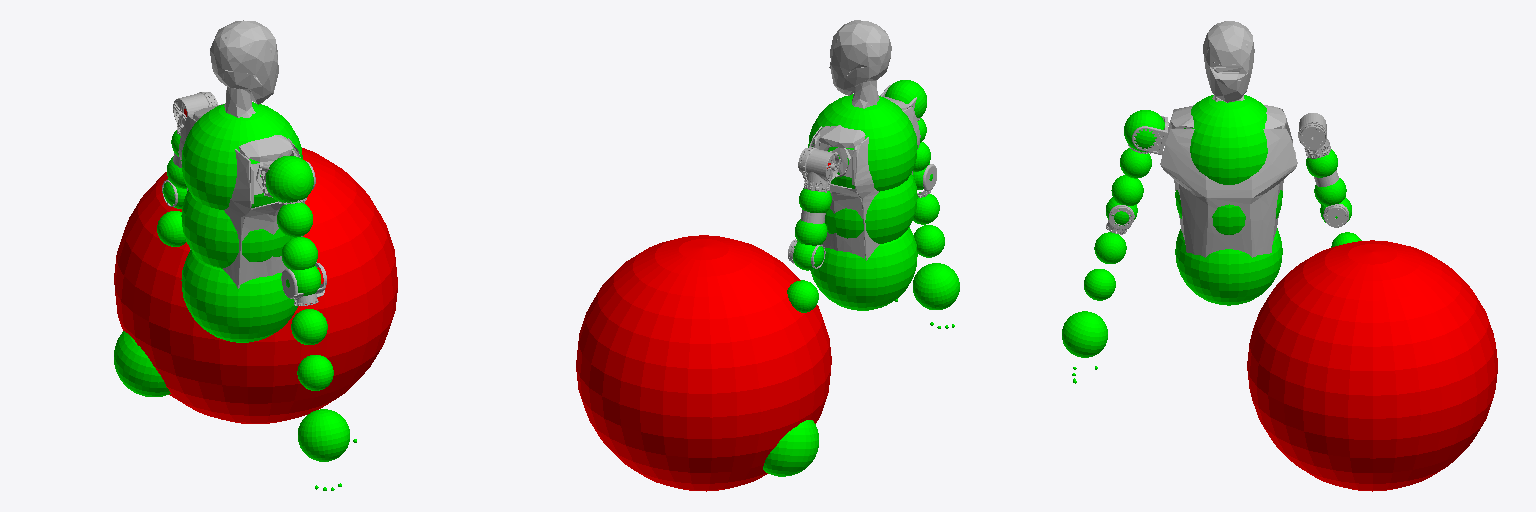
--- Render facts (derived) ---
The picture shows the robot from 3 angles, left to right: view 1: azimuth 30°, elevation 25°; view 2: azimuth 150°, elevation 25°; view 3: azimuth 270°, elevation 25°; orthographic projection.
Model dual_arm_description with 81 links and 80 joints (16 revolute, 1 prismatic, 63 fixed), rooted at base_footprint, posed every joint at zero.
Visible links, largest first — view 1: base_collision_1, waist_link, base_collision_2, base_collision_4, base_collision_3, right_collision_61, left_collision_61, right_collision_11, right_collision_41, right_collision_51, right_collision_21, right_collision_22 (+4 smaller); view 2: base_collision_1, waist_link, base_collision_2, base_collision_4, base_collision_3, left_collision_61, right_collision_61, left_link2, right_collision_11, right_collision_51, left_collision_41, left_collision_22 (+4 smaller); view 3: base_collision_1, waist_link, base_collision_4, base_collision_2, right_collision_61, right_collision_11, base_collision_3, left_link2, left_link3, right_collision_51, right_collision_41, right_collision_22 (+4 smaller).
Link boxes in pixels (x1,y1,x2,y2): base_collision_1: [114, 148, 397, 423]; waist_link: [178, 20, 304, 288]; base_collision_2: [181, 250, 297, 342]; base_collision_4: [181, 102, 302, 209]; base_collision_3: [181, 190, 292, 268]; right_collision_61: [298, 409, 349, 461]; left_collision_61: [114, 331, 170, 396]; right_collision_11: [266, 156, 313, 203]; right_collision_41: [291, 309, 327, 344]; right_collision_51: [297, 355, 333, 390]; right_collision_21: [277, 202, 312, 237]; right_collision_22: [282, 237, 317, 269]; base_collision_1: [576, 235, 831, 491]; waist_link: [802, 20, 920, 260]; base_collision_2: [810, 227, 917, 310]; base_collision_4: [808, 94, 917, 191]; base_collision_3: [825, 173, 917, 243]; left_collision_61: [763, 420, 818, 476]; right_collision_61: [913, 263, 959, 309]; left_link2: [798, 147, 839, 185]; right_collision_11: [885, 80, 926, 117]; right_collision_51: [914, 225, 944, 257]; left_collision_41: [787, 280, 818, 312]; left_collision_22: [795, 219, 827, 245]; base_collision_1: [1247, 240, 1497, 491]; waist_link: [1160, 21, 1297, 257]; base_collision_4: [1184, 95, 1267, 184]; base_collision_2: [1175, 228, 1282, 305]; right_collision_61: [1062, 311, 1107, 357]; right_collision_11: [1124, 110, 1164, 151]; base_collision_3: [1175, 190, 1282, 234]; left_link2: [1298, 113, 1329, 153]; left_link3: [1306, 146, 1348, 227]; right_collision_51: [1084, 269, 1115, 300]; right_collision_41: [1094, 232, 1126, 263]; right_collision_22: [1111, 175, 1143, 205].
Bounding box of the posed robot: 0.77 × 1.22 × 1.28 m (x, y, z).
Meshes: 44 distinct files referenced, 7 mesh visuals loaded (7 binary STL); not drawn: 37 (reference not matched to a file when rendering).

robot.urdf — dual_arm_description:
<?xml version="1.0" encoding="utf-8"?>
<!-- This URDF was automatically created by SolidWorks to URDF Exporter! Originally created by Stephen Brawner ([email redacted]) 
     Commit Version: 1.6.0-4-g7f85cfe  Build Version: 1.6.7995.38578
     For more information, please see http://wiki.ros.org/sw_urdf_exporter -->
<robot
  name="dual_arm_description">

  <mujoco>
        <compiler 
        meshdir="meshes/" 
        balanceinertia="true" 
        discardvisual="false" />
  </mujoco>
  <link name="base_footprint" />
  <link name="base_link" />
  <joint
    name="base_link_joint"
    type="fixed">
    <origin
      xyz="0 0 0.5"
      rpy="0 0 0" />
    <parent
      link="base_footprint" />
    <child
      link="base_link" />
    <axis
      xyz="0 0 0" />
  </joint>
  <link
    name="waist_link">
    <inertial>
      <origin
        xyz="-0.015645 0.000148 0.262500"
        rpy="0 0 0" />
      <mass
        value="15.674354" />
      <inertia
        ixx="0.365707"
        ixy="-0.000525"
        ixz="0.002362"
        iyy="0.354332"
        iyz="-0.000277"
        izz="0.089586" />
    </inertial>
    <visual>
      <origin rpy="0 0 0" xyz="0.0 0.0 0.0"/>
      <geometry>
        <mesh filename="waist_link2.STL" />
      </geometry>
      <material
        name="">
        <color
          rgba="0.752941176470588 0.752941176470588 0.752941176470588 1" />
      </material>
    </visual>
    <collision>
      <origin rpy="0 0 0" xyz="0.0 0.0 0.18"/>
      <geometry>
        <box size="0.2 0.25 0.36"/>
      </geometry>
    </collision>
  </link>
  <!-- <joint
    name="waist_joint"
    type="fixed">
    <origin
      xyz="0.0 0 0.0"
      rpy="0 0 0" />
    <parent
      link="base_link" />
    <child
      link="waist_link" />
    <axis
      xyz="0 0 1" />
    <limit effort="1000" lower="-3.14" upper="3.14" velocity="100"/>
  </joint> -->

  <link
    name="pelvis_link">
    <inertial>
      <origin
        xyz=" -0.047395 -0.000028 -0.046657"
        rpy="0 0 0" />
      <mass
        value="5.587228" />
      <inertia
        ixx="0.080339"
        ixy="-0.000008"
        ixz="0.006666"
        iyy="0.029082"
        iyz=" -0.000004"
        izz="0.091570" />
    </inertial>
    <visual>
      <origin rpy="0 0 0" xyz="0.0 0.0 0.0"/>
      <geometry>
        <mesh filename="pelvis.STL" />
      </geometry>
      <material
        name="">
        <color
          rgba="0.752941176470588 0.752941176470588 0.752941176470588 1" />
      </material>
    </visual>
    <collision>
      <origin
        xyz="0.0 0.0 -0.15"
        rpy="0 0 0" />
      <geometry>
        <box size="0.20 0.50 0.3"/>
      </geometry>
    </collision>
  </link>
  <joint
    name="pelvis_joint"
    type="fixed">
    <origin
      xyz="0.0 0 -0.00599999999999996"
      rpy="0 0 0" />
    <parent
      link="base_link" />
    <child
      link="pelvis_link" />
    <axis
      xyz="0 0 1" />
    <limit effort="1000" lower="-3.14" upper="3.14" velocity="100"/>
  </joint>
<joint name="waist_Z_joint" type="prismatic">
  <origin rpy="0 0 0" xyz="0 0 -0.0755"/>
  <parent link="pelvis_link"/>
  <child link="waist_Z_link"/>
  <axis xyz="0 0 1"/>
  <limit effort="90" lower="-0.15" upper="0" velocity="0.5"/>
  <dynamics damping="1" friction="1"/>
</joint>
<link name="waist_Z_link">
    <inertial>
      <origin rpy="0 0 0" xyz="-0.018779 -0.000457 0.246485"/>
      <mass value="1"/>
      <inertia ixx="0.242914" ixy="-0.000059" ixz="0.00398" iyy="0.228995" iyz="-0.000628" izz="0.075987"/>
    </inertial>
  <visual>
    <geometry>
      <cylinder radius="0.05" length="0.01"/>
    </geometry>
    <material name="blue">
      <color rgba="0 0 1 1"/>
    </material>
  </visual>
</link>

<!-- 腰部绕 X 轴旋转关节（Roll） -->
<joint name="waist_roll_joint" type="revolute">
  <origin rpy="0 0 0" xyz="0 0 0"/>
  <parent link="waist_Z_link"/>
  <child link="waist_roll_link"/>
  <axis xyz="1 0 0"/>
  <limit effort="90" lower="-0.25" upper="0.25" velocity="0.4"/>
  <dynamics damping="0.1" friction="0.1"/>
</joint>
<link name="waist_roll_link">
        <inertial>
      <origin rpy="0 0 0" xyz="-0.018779 -0.000457 0.246485"/>
      <mass value="0.0001"/>
      <inertia ixx="0.242914" ixy="-0.000059" ixz="0.00398" iyy="0.228995" iyz="-0.000628" izz="0.075987"/>
    </inertial>
  <visual>
    <geometry>
      <cylinder radius="0.05" length="0.01"/>
    </geometry>
    <material name="green">
      <color rgba="0 1 0 1"/>
    </material>
  </visual>
</link>

<!-- 腰部绕 Y 轴旋转关节（Pitch） -->
<joint name="waist_pitch_joint" type="fixed">

  <origin rpy="0 0 0" xyz="0 0 0"/>
  <parent link="waist_roll_link"/>
  <child link="waist_pitch_link"/>
  <axis xyz="0 1 0"/>
  <limit effort="90" lower="-0.25" upper="0.25" velocity="0.4"/>
  <dynamics damping="0.1" friction="0.1"/>
</joint>
<link name="waist_pitch_link">
        <inertial>
      <origin rpy="0 0 0" xyz="-0.018779 -0.000457 0.246485"/>
      <mass value="0.0001"/>
      <inertia ixx="0.242914" ixy="-0.000059" ixz="0.00398" iyy="0.228995" iyz="-0.000628" izz="0.075987"/>
    </inertial>
  <visual>
    <geometry>
      <cylinder radius="0.05" length="0.01"/>
    </geometry>
    <material name="red">
      <color rgba="1 0 0 1"/>
    </material>
  </visual>
</link>
  <!-- 腰部绕 Z 轴旋转关节（Yaw） -->
  <joint name="waist_yaw_joint" type="revolute">
    <origin rpy="0 0 0" xyz="0 0 0"/>
    <parent link="waist_pitch_link"/>
    <child link="waist_link"/>
    <axis xyz="0 0 1"/>
    <limit effort="90" lower="-1" upper="1" velocity="15"/>
    <dynamics damping="0.5" friction="0.5"/>
  </joint>
  <joint name="left_fixed_joint" type="fixed">
    <parent link= "waist_link" />
    <child link = "left_link0" />
    <origin xyz="0 0.15911 0.42582" rpy="0 1.3083 1.5707963" />
  </joint>
  <link
    name="left_link0">
    <inertial>
      <origin
        xyz="0.000007 -0.000002 -0.015501"
        rpy="0 0 0" />
      <mass
        value="1.036000" />
      <inertia
        ixx="0.000836" ixy="-0.000000" ixz="-0.000000" iyy="0.000835" iyz="-0.000000" izz="0.000658" />
    </inertial>
    <visual>
      <origin
        xyz="0 0 0"
        rpy="0 0 0" />
      <geometry>
        <mesh filename="l_link0.STL" />
      </geometry>
      <material
        name="">
        <color
          rgba="0.752941176470588 0.752941176470588 0.752941176470588 1" />
      </material>
    </visual>
    <collision>
      <!-- <origin
        xyz="0 0 0"
        rpy="0 0 0" />
      <geometry>
        <mesh filename="left_arm/collision/link0.STL" />
      </geometry> -->
      <origin xyz="0 0 -0.02" rpy="0 0 0"/>
      <geometry>
        <cylinder radius="0.04" length="0.08"/>
      </geometry>
    </collision>
  </link>
  <link
    name="left_link1">
    <inertial>
      <origin
        xyz="0.000000 0.000725 -0.029524"
        rpy="0 0 0" />
      <mass
        value="0.222000" />
      <inertia
        ixx="0.000545" ixy="-0.000000" ixz="-0.000000" iyy="0.000279" iyz="-0.000045" izz="0.000505" />
    </inertial>
    <visual>
      <origin
        xyz="0 0 0"
        rpy="0 0 0" />
      <geometry>
        <mesh filename="l_link1.STL" />
      </geometry>
      <material
        name="">
        <color
          rgba="0.752941176470588 0.752941176470588 0.752941176470588 1" />
      </material>
    </visual>
    <collision>
      <!-- <origin
        xyz="0 0 0"
        rpy="0 0 0" />
      <geometry>
        <mesh filename="left_arm/collision/link1.STL" />
      </geometry> -->
      <origin xyz="0 0 -0.05" rpy="0 0 0"/>
      <geometry>
        <box size="0.08 0.11 0.01"/>
      </geometry>
    </collision>
  </link>
  <joint
    name="left_joint1"
    type="revolute">
    <origin
      xyz="0 0 0.0767"
      rpy="0 0 0" />
    <parent
      link="left_link0" />
    <child
      link="left_link1" />
    <axis
      xyz="0 0 1" />
    <limit lower="-3.14159265358979" upper="0.785398163397448" effort="40" start_stop="82" velocity="3.14159265358979" />
    <!-- <property inertia="1.24" damping="0" stiffness="0" offset="0" motor_constant="5.31" ratio="100" protect_max_torque="0" equa_inertia="0" /> -->
  </joint>
  <link
    name="left_link2">
    <inertial>
      <origin
        xyz="0.000000 -0.000473 0.006864"
        rpy="0 0 0" />
      <mass
        value="1.226000" />
      <inertia
        ixx="0.001198" ixy="-0.000000" ixz="-0.000000" iyy="0.001180" iyz="-0.000003" izz="0.000952" />
    </inertial>
    <visual>
      <origin
        xyz="0 0 0"
        rpy="0 0 0" />
      <geometry>
        <mesh filename="l_link2.STL" />
      </geometry>
      <material
        name="">
        <color
          rgba="0.75294 0.75294 0.75294 1" />
      </material>
    </visual>
    <collision>
      <origin
        xyz="0 0 0"
        rpy="0 0 0" />
      <geometry>
        <cylinder radius="0.04" length="0.11"/>
      </geometry>
    </collision>
  </link>
  <joint
    name="left_joint2"
    type="revolute">
    <origin
      xyz="0 0 0.0"
      rpy="1.5707963267948966192313216916398 -1.5707963267948966192313216916398 0" />
    <parent
      link="left_link1" />
    <child
      link="left_link2" />
    <axis
      xyz="0 0 1" />
    <limit lower="-0.174" upper="1.74532925199433" effort="40" start_stop="82" velocity="3.14159265358979" />
    <!-- <property inertia="1.24" damping="0" stiffness="0" offset="0" motor_constant="5.31" ratio="100" protect_max_torque="0" equa_inertia="0" /> -->
  </joint>
  <link
    name="left_link3">
    <inertial>
      <origin
        xyz="0.000247 0.003673 -0.081504"
        rpy="0 0 0" />
      <mass
        value="1.824000" />
      <inertia
        ixx="0.014207" ixy="0.000002" ixz="-0.000016" iyy="0.013974" iyz="-0.000547" izz="0.001323" />
    </inertial>
    <visual>
      <origin
        xyz="0 0 0"
        rpy="0 0 0" />
      <geometry>
        <mesh filename="l_link3.STL" />
      </geometry>
      <material
        name="">
        <color
          rgba="0.752941176470588 0.752941176470588 0.752941176470588 1" />
      </material>
    </visual>
    <collision>
      <origin
        xyz="0 0 -0.11"
        rpy="0 0 0" />
      <geometry>
        <cylinder radius="0.03" length="0.22"/>
      </geometry>
    </collision>
  </link>
  <joint
    name="left_joint3"
    type="revolute">
    <origin
      xyz="0 -0.253 0"
      rpy="1.5707963267948966192313216916398 0 0" />
    <parent
      link="left_link2" />
    <child
      link="left_link3" />
    <axis
      xyz="0 0 1" />
    <limit lower="-2.26892802759263" upper="2.26892802759263" effort="22" start_stop="42" velocity="4.18879020478639" />
    <!-- <property inertia="0.2" damping="0" stiffness="0" offset="0" motor_constant="4.5" ratio="100" protect_max_torque="0" equa_inertia="0" /> -->
  </joint>
  <link
    name="left_link4">
    <inertial>
      <origin
        xyz="0.002765 -0.020714 0.006089"
        rpy="0 0 0" />
      <mass
        value="0.123000" />
      <inertia
        ixx="0.000241" ixy="0.000004" ixz="0.000002" iyy="0.000211" iyz="-0.000006" izz="0.000125" />
    </inertial>
    <visual>
      <origin
        xyz="0 0 0"
        rpy="0 0 0" />
      <geometry>
        <mesh filename="l_link4.STL" />
      </geometry>
      <material
        name="">
        <color
          rgba="0.75294 0.75294 0.75294 1" />
      </material>
    </visual>
    <collision>
      <origin
        xyz="0 0 0"
        rpy="0 0 0" />
      <geometry>
        <cylinder radius="0.04" length="0.1"/>
      </geometry>
    </collision>
  </link>
  <joint
    name="left_joint4"
    type="revolute">
    <origin
      xyz="0 0 0"
      rpy="-1.5707963267948966192313216916398 0 0" />
    <parent
      link="left_link3" />
    <child
      link="left_link4" />
    <axis
      xyz="0 0 1" />
    <limit lower="-2.26892802759263" upper="0" effort="22" start_stop="42" velocity="4.18879020478639" />
    <!-- <property inertia="0.2" damping="0" stiffness="0" offset="0" motor_constant="4.5" ratio="100" protect_max_torque="0" equa_inertia="0" /> -->
  </joint>
  <link
    name="left_link5">
    <inertial>
      <origin
        xyz="0.000563 0.005092 -0.108798"
        rpy="0 0 0" />
      <mass
        value="1.010000" />
      <inertia
        ixx="0.002286" ixy="0.000027" ixz="-0.000035" iyy="0.002080" iyz="-0.000228" izz="0.000629" />
    </inertial>
    <visual>
      <origin
        xyz="0 0 0"
        rpy="0 0 0" />
      <geometry>
        <mesh filename="l_link5.STL" />
      </geometry>
      <material
        name="">
        <color
          rgba="0.752941176470588 0.752941176470588 0.752941176470588 1" />
      </material>
    </visual>
    <collision>
      <origin
        xyz="0 0 0"
        rpy="0 0 0" />
      <geometry>
        <mesh filename="l_link5.STL" />
      </geometry>
    </collision>
    <collision>
      <origin
        xyz="0 0 -0.15 "
        rpy="0 0 0" />
      <geometry>
        <cylinder radius="0.03" length="0.08"/>
      </geometry>
    </collision>
    <collision>
      <origin
        xyz="0 0 -0.08 "
        rpy="1.5707963267 0 0" />
      <geometry>
        <cylinder radius="0.03" length="0.1"/>
      </geometry>
    </collision>
    <!-- <collision>
      <origin
        xyz="0 0.05 -0.05 "
        rpy="0 0 0" />
      <geometry>
        <box size="0.07 0.01 0.12"/>
      </geometry>
    </collision>
    <collision>
      <origin
        xyz="0 -0.05 -0.05 "
        rpy="0 0 0" />
      <geometry>
        <box size="0.07 0.01 0.12"/>
      </geometry>
    </collision> -->
  </link>
  <joint
    name="left_joint5"
    type="revolute">
    <origin
      xyz="0 -0.2355 0"
      rpy="1.5707963267948966192313216916398 0 0" />
    <parent
      link="left_link4" />
    <child
      link="left_link5" />
    <axis
      xyz="0 0 1" />
    <limit lower="-2.26892802759263" upper="2.26892802759263" effort="8" start_stop="15" velocity="3.14159265358979" />
    <!-- <property inertia="0.085" damping="0" stiffness="0" offset="0" motor_constant="4.63" ratio="100" protect_max_torque="0" equa_inertia="0" /> -->
  </joint>
  <link
    name="left_link6">
    <inertial>
      <origin
        xyz="0.000000 -0.005048 0.000947"
        rpy="0 0 0" />
      <mass
        value="0.487000" />
      <inertia
        ixx="0.000270" ixy="-0.000000" ixz="-0.000000" iyy="0.000208" iyz="-0.000012" izz="0.000250" />
    </inertial>
    <visual>
      <origin
        xyz="0 0 0"
        rpy="0 0 0" />
      <geometry>
        <mesh filename="l_link6.STL" />
      </geometry>
      <material
        name="">
        <color
          rgba="0.75294 0.75294 0.75294 1" />
      </material>
    </visual>
    <collision>
      <origin
        xyz="0 0 0"
        rpy="1.5707963267 0 0" />
      <geometry>
        <cylinder radius="0.032" length="0.09"/>
      </geometry>
    </collision>
  </link>
  <joint
    name="left_joint6"
    type="revolute">
    <origin
      xyz="0 0 0"
      rpy="-1.5707963267948966192313216916398 -1.5707963267948966192313216916398 0" />
    <parent
      link="left_link5" />
    <child
      link="left_link6" />
    <axis
      xyz="0 0 1" />
    <limit lower="-0.645771812" upper="0.645771812" effort="8" start_stop="15" velocity="3.14159265358979" />
    <!-- <property inertia="0.085" damping="0" stiffness="0" offset="0" motor_constant="4.63" ratio="100" protect_max_torque="0" equa_inertia="0" /> -->
  </joint>
  <link
    name="left_link7">
    <inertial>
      <origin
        xyz="-0.000016 -0.066640 -0.015498"
        rpy="0 0 0" />
      <mass
        value="0.228000" />
      <inertia
        ixx="0.000303" ixy="-0.000000" ixz="-0.000000" iyy="0.000168" iyz="0.000088" izz="0.000265" />
    </inertial>
    <visual>
      <origin
        xyz="0 0 0"
        rpy="0 0 0" />
      <geometry>
        <mesh filename="l_link7.STL" />
      </geometry>
      <material
        name="">
        <color
          rgba="0.75294 0.75294 0.75294 1" />
      </material>
    </visual>
    <collision>
      <origin
        xyz="0 -0.05 0.04"
        rpy="0 0 0" />
      <geometry>
        <box size="0.06 0.05 0.01" />
      </geometry>
    </collision>
    <collision>
      <origin
        xyz="0 -0.08 0.0"
        rpy="1.5707963267 0 0" />
      <geometry>
        <cylinder radius="0.03" length="0.055" />
      </geometry>
    </collision>
  </link>
  <joint
    name="left_joint7"
    type="revolute">
    <origin
      xyz="0 0 0"
      rpy="-1.5707963267948966192313216916398 1.5707963267948966192313216916398 0" />
    <parent
      link="left_link6" />
    <child
      link="left_link7" />
    <axis
      xyz="0 0 1" />
    <limit lower="-0.645771812" upper="0.645771812" effort="8" start_stop="15" velocity="3.14159265358979" />
    <!-- <property inertia="0.085" damping="0" stiffness="0" offset="0" motor_constant="4.63" ratio="100" protect_max_torque="0" equa_inertia="0" /> -->
  </joint>
  <link name="left_flange"/>
  <joint name="left_flange_joint" type="fixed">
    <origin rpy="1.5707963267948966192313216916398 0 0" xyz="0 -0.084 0"/>
    <parent link="left_link7"/>
    <child link="left_flange"/>
  </joint>
  <link name="left_tcp_link"/>
  <joint
    name="left_tcp"
    type="fixed">
    <!-- <origin xyz="0 -0.2315 0" rpy="1.5707963267948966192313216916398 0 0" /> -->
    <origin xyz="0 -0.084 0" rpy="1.5707963267948966192313216916398 0 0" />
    <parent
      link="left_link7" />
    <child
      link="left_tcp_link" />
  </joint>
  <!-- <joint
    name="left_tcp"
    type="fixed">
    <origin
      xyz="0 0 0.12"
      rpy="0 0 0" />
    <parent
      link="left_flange" />
    <child
      link="left_tcp_link" />
  </joint> -->

  <joint name="right_fixed_joint" type="fixed">
    <parent link= "waist_link" />
    <child link = "right_link0" />
    <origin xyz="0 -0.15911 0.42582" rpy="0 1.3083 -1.5707963" />
  </joint>

  <link
    name="right_link0">
    <inertial>
      <origin
        xyz="0.000007 0.000002 0.015501"
        rpy="0 0 0" />
      <mass
        value="1.036000" />
      <inertia
        ixx="0.000836" ixy="-0.000000" ixz="-0.000000" iyy="0.000835" iyz="-0.000000" izz="0.000658" />
    </inertial>
    <visual>
      <origin
        xyz="0 0 0"
        rpy="0 0 0" />
      <geometry>
        <mesh filename="r_link0.STL" />
      </geometry>
      <material
        name="">
        <color
          rgba="0.752941176470588 0.752941176470588 0.752941176470588 1" />
      </material>
    </visual>
    <collision>
      <!-- <origin
        xyz="0 0 0"
        rpy="0 0 0" />
      <geometry>
        <mesh filename="right_arm/collision/link0.STL" />
      </geometry> -->
      <origin xyz="0 0 -0.02" rpy="0 0 0"/>
      <geometry>
        <cylinder radius="0.04" length="0.08"/>
      </geometry>
    </collision>
  </link>
  <link
    name="right_link1">
    <inertial>
      <origin
        xyz="0.000000 -0.000725 -0.029524"
        rpy="0 0 0" />
      <mass
        value="0.222000" />
      <inertia
        ixx="0.000545" ixy="-0.000000" ixz="-0.000000" iyy="0.000279" iyz="0.000045" izz="0.000505" />
    </inertial>
    <visual>
      <origin
        xyz="0 0 0"
        rpy="0 0 0" />
      <geometry>
        <mesh filename="r_link1.STL" />
      </geometry>
      <material
        name="">
        <color
          rgba="0.752941176470588 0.752941176470588 0.752941176470588 1" />
      </material>
    </visual>
    <collision>
      <!-- <origin
        xyz="0 0 0"
        rpy="0 0 0" />
      <geometry>
        <mesh filename="right_arm/collision/link1.STL" />
      </geometry> -->
      <origin xyz="0 0 -0.05" rpy="0 0 0"/>
      <geometry>
        <box size="0.08 0.11 0.01"/>
      </geometry>
    </collision>
  </link>
  <joint
    name="right_joint1"
    type="revolute">
    <origin
      xyz="0 0 0.0767"
      rpy="0 0 0" />
    <parent
      link="right_link0" />
    <child
      link="right_link1" />
    <axis
      xyz="0 0 1" />
    <limit lower="-0.785398163397448" upper="3.14159265358979" effort="40" start_stop="82" velocity="3.14159265358979" />
    <!-- <property inertia="1.24" damping="0" stiffness="0" offset="0" motor_constant="5.31" ratio="100" protect_max_torque="0" equa_inertia="0" /> -->
  </joint>
  <link
    name="right_link2">
    <inertial>
      <origin
        xyz="0.000000 0.000473 0.006864"
        rpy="0 0 0" />
      <mass
        value="1.226000" />
      <inertia
        ixx="0.001198" ixy="-0.000000" ixz="-0.000000" iyy="0.001180" iyz="0.000003" izz="0.000952" />
    </inertial>
    <visual>
      <origin
        xyz="0 0 0"
        rpy="0 0 0" />
      <geometry>
        <mesh filename="r_link2.STL" />
      </geometry>
      <material
        name="">
        <color
          rgba="0.75294 0.75294 0.75294 1" />
      </material>
    </visual>
    <collision>
      <origin
        xyz="0 0 0"
        rpy="0 0 0" />
      <geometry>
        <cylinder radius="0.04" length="0.11"/>
      </geometry>
    </collision>
  </link>
  <joint
    name="right_joint2"
    type="revolute">
    <origin
      xyz="0 0 0.0"
      rpy="-1.5707963267948966192313216916398 -1.5707963267948966192313216916398 0" />
    <parent
      link="right_link1" />
    <child
      link="right_link2" />
    <axis
      xyz="0 0 1" />
    <limit lower="-1.74532925199433" upper="0.174" effort="40" start_stop="82" velocity="3.14159265358979" />
    <!-- <property inertia="1.24" damping="0" stiffness="0" offset="0" motor_constant="5.31" ratio="100" protect_max_torque="0" equa_inertia="0" /> -->
  </joint>
  <link
    name="right_link3">
    <inertial>
      <origin
        xyz="0.000247 -0.003673 -0.081504"
        rpy="0 0 0" />
      <mass
        value="1.824000" />
      <inertia
        ixx="0.014207" ixy="-0.000002" ixz="-0.000016" iyy="0.013974" iyz="0.000547" izz="0.001323" />
    </inertial>
    <visual>
      <origin
        xyz="0 0 0"
        rpy="0 0 0" />
      <geometry>
        <mesh filename="r_link3.STL" />
      </geometry>
      <material
        name="">
        <color
          rgba="0.752941176470588 0.752941176470588 0.752941176470588 1" />
      </material>
    </visual>
    <collision>
      <origin
        xyz="0 0 -0.11"
        rpy="0 0 0" />
      <geometry>
        <cylinder radius="0.03" length="0.22"/>
      </geometry>
    </collision>
  </link>
  <joint
    name="right_joint3"
    type="revolute">
    <origin
      xyz="0 0.253 0"
      rpy="-1.5707963267948966192313216916398 0 0" />
    <parent
      link="right_link2" />
    <child
      link="right_link3" />
    <axis
      xyz="0 0 1" />
    <limit lower="-2.26892802759263" upper="2.26892802759263" effort="22" start_stop="42" velocity="4.18879020478639" />
    <!-- <property inertia="0.2" damping="0" stiffness="0" offset="0" motor_constant="4.5" ratio="100" protect_max_torque="0" equa_inertia="0" /> -->
  </joint>
  <link
    name="right_link4">
    <inertial>
      <origin
        xyz="0.002765 0.020714 0.006089"
        rpy="0 0 0" />
      <mass
        value="0.123000" />
      <inertia
        ixx="0.000241" ixy="-0.000004" ixz="0.000002" iyy="0.000211" iyz="0.000006" izz="0.000125" />
    </inertial>
    <visual>
      <origin
        xyz="0 0 0"
        rpy="0 0 0" />
      <geometry>
        <mesh filename="r_link4.STL" />
      </geometry>
      <material
        name="">
        <color
          rgba="0.75294 0.75294 0.75294 1" />
      </material>
    </visual>
    <collision>
      <origin
        xyz="0 0 0"
        rpy="0 0 0" />
      <geometry>
        <cylinder radius="0.04" length="0.1"/>
      </geometry>
    </collision>
  </link>
  <joint
    name="right_joint4"
    type="revolute">
    <origin
      xyz="0 0 0"
      rpy="1.5707963267948966192313216916398 0 0" />
    <parent
      link="right_link3" />
    <child
      link="right_link4" />
    <axis
      xyz="0 0 1" />
    <limit lower="0" upper="2.26892802759263" effort="22" start_stop="42" velocity="4.18879020478639" />
    <!-- <property inertia="0.2" damping="0" stiffness="0" offset="0" motor_constant="4.5" ratio="100" protect_max_torque="0" equa_inertia="0" /> -->
  </joint>
  <link
    name="right_link5">
    <inertial>
      <origin
        xyz="0.000563 -0.005092 -0.108798"
        rpy="0 0 0" />
      <mass
        value="1.010000" />
      <inertia
        ixx="0.002286" ixy="0.000027" ixz="-0.000035" iyy="0.002080" iyz="0.000228" izz="0.000629" />
    </inertial>
    <visual>
      <origin
        xyz="0 0 0"
        rpy="0 0 0" />
      <geometry>
        <mesh filename="r_link5.STL" />
      </geometry>
      <material
        name="">
        <color
          rgba="0.752941176470588 0.752941176470588 0.752941176470588 1" />
      </material>
    </visual>
    <collision>
      <origin
        xyz="0 0 0"
        rpy="0 0 0" />
      <geometry>
        <mesh filename="r_link5.STL" />
      </geometry>
    </collision>
    <collision>
      <origin
        xyz="0 0 -0.15 "
        rpy="0 0 0" />
      <geometry>
        <cylinder radius="0.03" length="0.08"/>
      </geometry>
    </collision>
    <collision>
      <origin
        xyz="0 0 -0.08 "
        rpy="1.5707963267 0 0" />
      <geometry>
        <cylinder radius="0.03" length="0.1"/>
      </geometry>
    </collision>
    <!-- <collision>
      <origin
        xyz="0 0.05 -0.05 "
        rpy="0 0 0" />
      <geometry>
        <box size="0.07 0.01 0.12"/>
      </geometry>
    </collision>
    <collision>
      <origin
        xyz="0 -0.05 -0.05 "
        rpy="0 0 0" />
      <geometry>
        <box size="0.07 0.01 0.12"/>
      </geometry>
    </collision> -->
  </link>
  <joint
    name="right_joint5"
    type="revolute">
    <origin
      xyz="0 0.2355 0"
      rpy="-1.5707963267948966192313216916398 0 0" />
    <parent
      link="right_link4" />
    <child
      link="right_link5" />
    <axis
      xyz="0 0 1" />
    <limit lower="-2.26892802759263" upper="2.26892802759263" effort="8" start_stop="15" velocity="3.14159265358979" />
    <!-- <property inertia="0.085" damping="0" stiffness="0" offset="0" motor_constant="4.63" ratio="100" protect_max_torque="0" equa_inertia="0" /> -->
  </joint>
  <link
    name="right_link6">
    <inertial>
      <origin
        xyz="0.000000 0.005048 0.000947"
        rpy="0 0 0" />
      <mass
        value="0.487000" />
      <inertia
        ixx="0.000270" ixy="-0.000000" ixz="-0.000000" iyy="0.000208" iyz="0.000012" izz="0.000250" />
    </inertial>
    <visual>
      <origin
        xyz="0 0 0"
        rpy="0 0 0" />
      <geometry>
        <mesh filename="r_link6.STL" />
      </geometry>
      <material
        name="">
        <color
          rgba="0.75294 0.75294 0.75294 1" />
      </material>
    </visual>
    <collision>
      <origin
        xyz="0 0 0"
        rpy="1.5707963267 0 0" />
      <geometry>
        <cylinder radius="0.032" length="0.09"/>
      </geometry>
    </collision>
  </link>
  <joint
    name="right_joint6"
    type="revolute">
    <origin
      xyz="0 0 0"
      rpy="1.5707963267948966192313216916398 -1.5707963267948966192313216916398 0" />
    <parent
      link="right_link5" />
    <child
      link="right_link6" />
    <axis
      xyz="0 0 1" />
    <limit lower="-0.645771812" upper="0.645771812" effort="8" start_stop="15" velocity="3.14159265358979" />
    <!-- <property inertia="0.085" damping="0" stiffness="0" offset="0" motor_constant="4.63" ratio="100" protect_max_torque="0" equa_inertia="0" /> -->
  </joint>
  <link
    name="right_link7">
    <inertial>
      <origin
        xyz="-0.000016 -0.066640 -0.015498"
        rpy="0 0 0" />
      <mass
        value="0.228000" />
      <inertia
        ixx="0.000303" ixy="-0.000000" ixz="-0.000000" iyy="0.000168" iyz="0.000088" izz="0.000265" />
    </inertial>
    <visual>
      <origin
        xyz="0 0 0"
        rpy="0 0 0" />
      <geometry>
        <mesh filename="r_link7.STL" />
      </geometry>
      <material
        name="">
        <color
          rgba="0.75294 0.75294 0.75294 1" />
      </material>
    </visual>
    <collision>
      <origin
        xyz="0 -0.05 0.04"
        rpy="0 0 0" />
      <geometry>
        <box size="0.06 0.05 0.01" />
      </geometry>
    </collision>
    <collision>
      <origin
        xyz="0 -0.08 0.0"
        rpy="1.5707963267 0 0" />
      <geometry>
        <cylinder radius="0.03" length="0.055" />
      </geometry>
    </collision>
  </link>
  <joint
    name="right_joint7"
    type="revolute">
    <origin
      xyz="0 0 0"
      rpy="1.5707963267948966192313216916398 -1.5707963267948966192313216916398 0" />
    <parent
      link="right_link6" />
    <child
      link="right_link7" />
    <axis
      xyz="0 0 1" />
    <limit lower="-0.645771812" upper="0.645771812" effort="8" start_stop="15" velocity="3.14159265358979" />
    <!-- <property inertia="0.085" damping="0" stiffness="0" offset="0" motor_constant="4.63" ratio="100" protect_max_torque="0" equa_inertia="0" /> -->
  </joint>
  <link name="right_flange"/>
  <joint name="right_flange_joint" type="fixed">
    <origin rpy="1.5707963267948966192313216916398 0 0" xyz="0 -0.084 0"/>
    <parent link="right_link7"/>
    <child link="right_flange"/>
  </joint>
  <link name="right_tcp_link"/>
  <joint
    name="right_tcp"
    type="fixed">
    <!-- <origin xyz="0 -0.2315 0" rpy="1.5707963267948966192313216916398 0 0" /> -->
    <origin xyz="0 -0.084 0" rpy="1.5707963267948966192313216916398 0 0" />
    <parent
      link="right_link7" />
    <child
      link="right_tcp_link" />
  </joint>

  <!-- <link name="right_plate_link">
    <visual>
      <origin
        xyz="0 0 0"
        rpy="0 0 0" />
      <geometry>
        <cylinder radius="0.25" length="0.1"/>
      </geometry>
      <material
      name="">
      <color
        rgba="0.75294 0.75294 0.75294 1" />
    </material>
    </visual>
  </link>
  <joint
    name="right_plate"
    type="fixed">
    <origin
      xyz="-0.082  -0.294  0.013"
      rpy="3.037  -0.916 0.076" />
    <parent
      link="right_tcp_link" />
    <child
      link="right_plate_link" />
  </joint> -->



  <joint name="left_flange" type="fixed">
    <origin rpy="0 -1.5707963267948966192313216916398 0" xyz="0 -0.084 0"/>
    <parent link="left_link7"/>
    <child link="L_hand_base_link"/>
  </joint>
  <link name="L_hand_base_link">
      <inertial>
        <origin
          xyz="-0.002551 -0.066047 -0.0019357"
          rpy="0 0 0" />
        <mass
          value="0.14143" />
        <inertia
          ixx="0.0001234"
          ixy="2.1995E-06"
          ixz="-1.7694E-06"
          iyy="8.3835E-05"
          iyz="1.5968E-06"
          izz="7.7231E-05" />
      </inertial>
      <visual>
        <origin
          xyz="0 0 0"
          rpy="0 0 0" />
        <geometry>
          <mesh filename="L_hand_base_link.STL" />
        </geometry>
        <material name="">
          <color rgba="0.1 0.1 0.1 1" />
        </material>
      </visual>
      <!-- <collision>
        <origin
          xyz="0 0 0"
          rpy="0 0 0" />
        <geometry>
          <mesh filename="L_hand_base_link.STL" />
        </geometry>
      </collision> -->
    </link>

    <link name="L_thumb_proximal_base">
      <inertial>
        <origin
          xyz="0.0048817 0.00038782 -0.00722"
          rpy="0 0 0" />
        <mass
          value="0.0018869" />
        <inertia
          ixx="5.5158E-08"
          ixy="-1.1803E-08"
          ixz="-4.6743E-09"
          iyy="8.2164E-08"
          iyz="-1.3521E-09"
          izz="6.7434E-08" />
      </inertial>
      <visual>
        <origin
          xyz="0 0 0"
          rpy="0 0 0" />
        <geometry>
          <mesh filename="Link11_L.STL" />
        </geometry>
        <material name="">
          <color rgba="0.1 0.1 0.1 1" />
        </material>
      </visual>
      <!-- <collision>
        <origin
          xyz="0 0 0"
          rpy="0 0 0" />
        <geometry>
          <mesh filename="Link11_L.STL" />
        </geometry>
      </collision> -->
    </link>

    <joint
      name="L_thumb_proximal_yaw_joint"
      type="fixed">
      <origin
        xyz="-0.01696 -0.0691 0.02045"
        rpy="1.5708 -1.5708 0" />
      <parent
        link="L_hand_base_link" />
      <child
        link="L_thumb_proximal_base" />
      <axis
        xyz="0 0 1" />
      <limit
        lower="-0.1"
        upper="1.3"
        effort="10"
        velocity="5" />
    </joint>

    <link name="L_thumb_proximal">
      <inertial>
        <origin
          xyz="0.021936 -0.01279 -0.0080386"
          rpy="0 0 0" />
        <mass
          value="0.0066101" />
        <inertia
          ixx="1.5693E-06"
          ixy="7.8339E-07"
          ixz="8.5959E-10"
          iyy="1.7356E-06"
          iyz="1.0378E-09"
          izz="2.787E-06" />
      </inertial>
      <visual>
        <origin
          xyz="0 0 0"
          rpy="0 0 0" />
        <geometry>
          <mesh filename="Link12_L.STL" />
        </geometry>
        <material name="">
          <color rgba="0.1 0.1 0.1 1" />
        </material>
      </visual>
      <!-- <collision>
        <origin
          xyz="0 0 0"
          rpy="0 0 0" />
        <geometry>
          <mesh filename="Link12_L.STL" />
        </geometry>
      </collision> -->
    </link>

    <joint
      name="L_thumb_proximal_pitch_joint"
      type="fixed">
      <origin
        xyz="0.0099867 0.0098242 -0.0089"
        rpy="-1.5708 0 0.16939" />
      <parent
        link="L_thumb_proximal_base" />
      <child
        link="L_thumb_proximal" />
      <axis
        xyz="0 0 -1" />
      <limit
        lower="0.0"
        upper="0.5"
        effort="10"
        velocity="5" />
    </joint>

    <link name="L_thumb_intermediate">
      <inertial>
        <origin
          xyz="0.0095531 0.0016282 -0.0072002"
          rpy="0 0 0" />
        <mass
          value="0.0037844" />
        <inertia
          ixx="3.6981E-07"
          ixy="9.8603E-08"
          ixz="-2.8173E-12"
          iyy="3.2395E-07"
          iyz="-2.8028E-12"
          izz="4.6532E-07" />
      </inertial>
      <visual>
        <origin
          xyz="0 0 0"
          rpy="0 0 0" />
        <geometry>
          <mesh filename="Link13_L.STL" />
        </geometry>
        <material name="">
          <color rgba="0.1 0.1 0.1 1" />
        </material>
      </visual>
      <!-- <collision>
        <origin
          xyz="0 0 0"
          rpy="0 0 0" />
        <geometry>
          <mesh filename="Link13_L.STL" />
        </geometry>
      </collision> -->
    </link>

    <joint
      name="L_thumb_intermediate_joint"
      type="fixed">
      <origin
        xyz="0.04407 -0.034553 -0.0008"
        rpy="0 0 0" />
      <parent
        link="L_thumb_proximal" />
      <child
        link="L_thumb_intermediate" />
      <axis
        xyz="0 0 -1" />
      <limit
        lower="0"
        upper="0.8"
        effort="10"
        velocity="5" />
      <mimic 
        joint="L_thumb_proximal_pitch_joint"
        multiplier="1.6"
        offset="0" />
    </joint>

    <link name="L_thumb_distal">
      <inertial>
        <origin
          xyz="0.0092888 -0.004953 -0.0060033"
          rpy="0 0 0" />
        <mass
          value="0.003344" />
        <inertia
          ixx="1.3632E-07"
          ixy="5.6787E-08"
          ixz="-9.1939E-11"
          iyy="1.4052E-07"
          iyz="1.2145E-10"
          izz="2.0026E-07" />
      </inertial>
      <visual>
        <origin
          xyz="0 0 0"
          rpy="0 0 0" />
        <geometry>
          <mesh filename="Link14_L.STL" />
        </geometry>
        <material name="">
          <color rgba="0.1 0.1 0.1 1" />
        </material>
      </visual>
      <!-- <collision>
        <origin
          xyz="0 0 0"
          rpy="0 0 0" />
        <geometry>
          <mesh filename="Link14_L.STL" />
        </geometry>
      </collision> -->
    </link>

    <joint
      name="L_thumb_distal_joint"
      type="fixed">
      <origin
        xyz="0.020248 -0.010156 -0.0012"
        rpy="0 0 0" />
      <parent
        link="L_thumb_intermediate" />
      <child
        link="L_thumb_distal" />
      <axis
        xyz="0 0 -1" />
      <limit
        lower="0"
        upper="1.2"
        effort="10"
        velocity="5" />
      <mimic 
        joint="L_thumb_proximal_pitch_joint"
        multiplier="2.4"
        offset="0" />
    </joint>

    <link name="L_index_proximal">
      <inertial>
        <origin
          xyz="0.0012971 -0.011934 -0.0059998"
          rpy="0 0 0" />
        <mass
          value="0.0042405" />
        <inertia
          ixx="6.6215E-07"
          ixy="1.8442E-08"
          ixz="1.3746E-12"
          iyy="2.1167E-07"
          iyz="-1.4773E-11"
          izz="6.9402E-07" />
      </inertial>
      <visual>
        <origin
          xyz="0 0 0"
          rpy="0 0 0" />
        <geometry>
          <mesh filename="Link15_L.STL" />
        </geometry>
        <material name="">
          <color rgba="0.1 0.1 0.1 1" />
        </material>
      </visual>
      <!-- <collision>
        <origin
          xyz="0 0 0"
          rpy="0 0 0" />
        <geometry>
          <mesh filename="Link15_L.STL" />
        </geometry>
      </collision> -->
    </link>

    <link name="L_thumb_tip">
    <visual>
      <origin
        xyz="0 0 0"
        rpy="0 0 0" />
      <geometry>
        <sphere radius="0.005"/>
      </geometry>
      <material name="green">
        <color rgba="0 1 0 1" />
      </material>
    </visual>
  </link>
  <joint name="L_thumb_tip_joint" type="fixed">
    <parent link="L_thumb_distal"/>
    <child link="L_thumb_tip"/>
    <origin rpy="0 0 0" xyz="0.015 -0.013 -0.004"/>
  </joint>

    <joint
      name="L_index_proximal_joint"
      type="fixed">
      <origin
        xyz="0.00028533 -0.13653 0.032268"
        rpy="-0.034907 0 0" />
      <parent
        link="L_hand_base_link" />
      <child
        link="L_index_proximal" />
      <axis
        xyz="0 0 -1" />
      <limit
        lower="0"
        upper="1.7"
        effort="10"
        velocity="5" />
    </joint>

    <link name="L_index_intermediate">
      <inertial>
        <origin
          xyz="0.0021753 -0.019567 -0.005"
          rpy="0 0 0" />
        <mass
          value="0.0045682" />
        <inertia
          ixx="7.6284E-07"
          ixy="-8.063E-08"
          ixz="3.6797E-13"
          iyy="9.4308E-08"
          iyz="1.5743E-13"
          izz="7.8176E-07" />
      </inertial>
      <visual>
        <origin
          xyz="0 0 0"
          rpy="0 0 0" />
        <geometry>
          <mesh filename="Link16_L.STL" />
        </geometry>
        <material name="">
          <color rgba="0.1 0.1 0.1 1" />
        </material>
      </visual>
      <!-- <collision>
        <origin
          xyz="0 0 0"
          rpy="0 0 0" />
        <geometry>
          <mesh filename="Link16_L.STL" />
        </geometry>
      </collision> -->
    </link>

    <joint
      name="L_index_intermediate_joint"
      type="fixed">
      <origin
        xyz="-0.0024229 -0.032041 -0.001"
        rpy="0 0 0" />
      <parent
        link="L_index_proximal" />
      <child
        link="L_index_intermediate" />
      <axis
        xyz="0 0 -1" />
      <limit
        lower="0"
        upper="1.7"
        effort="10"
        velocity="5" />
      <mimic 
        joint="L_index_proximal_joint"
        multiplier="1"
        offset="0" />
    </joint>

    <link name="L_index_tip">
    <visual>
      <origin
        xyz="0 0 0"
        rpy="0 0 0" />
      <geometry>
        <sphere radius="0.005"/>
      </geometry>
      <material name="green">
        <color rgba="0 1 0 1" />
      </material>
    </visual>
  </link>
  <joint name="L_index_tip_joint" type="fixed">
    <parent link="L_index_intermediate"/>
    <child link="L_index_tip"/>
    <origin rpy="0 0 0" xyz="-0.005 -0.04 -0.004"/>
  </joint>

    <link name="L_middle_proximal">
      <inertial>
        <origin
          xyz="0.0012971 -0.011934 -0.0059999"
          rpy="0 0 0" />
        <mass
          value="0.0042405" />
        <inertia
          ixx="6.6215E-07"
          ixy="1.8442E-08"
          ixz="1.2299E-12"
          iyy="2.1167E-07"
          iyz="-1.4484E-11"
          izz="6.9402E-07" />
      </inertial>
      <visual>
        <origin
          xyz="0 0 0"
          rpy="0 0 0" />
        <geometry>
          <mesh filename="Link17_L.STL" />
        </geometry>
        <material name="">
          <color rgba="0.1 0.1 0.1 1" />
        </material>
      </visual>
      <!-- <collision>
        <origin
          xyz="0 0 0"
          rpy="0 0 0" />
        <geometry>
          <mesh filename="Link17_L.STL" />
        </geometry>
      </collision> -->
    </link>

    <joint
      name="L_middle_proximal_joint"
      type="fixed">
      <origin
        xyz="0.00028533 -0.1371 0.01295"
        rpy="0 0 0" />
      <parent
        link="L_hand_base_link" />
      <child
        link="L_middle_proximal" />
      <axis
        xyz="0 0 -1" />
      <limit
        lower="0"
        upper="1.7"
        effort="10"
        velocity="5" />
    </joint>

    <link name="L_middle_intermediate">
      <inertial>
        <origin
          xyz="0.001921 -0.020796 -0.0049999"
          rpy="0 0 0" />
        <mass
          value="0.0050397" />
        <inertia
          ixx="9.5823E-07"
          ixy="-1.1425E-07"
          ixz="-2.4186E-12"
          iyy="1.0646E-07"
          iyz="3.6974E-12"
          izz="9.8385E-07" />
      </inertial>
      <visual>
        <origin
          xyz="0 0 0"
          rpy="0 0 0" />
        <geometry>
          <mesh filename="Link18_L.STL" />
        </geometry>
        <material name="">
          <color rgba="0.1 0.1 0.1 1" />
        </material>
      </visual>
      <!-- <collision>
        <origin
          xyz="0 0 0"
          rpy="0 0 0" />
        <geometry>
          <mesh filename="Link18_L.STL" />
        </geometry>
      </collision> -->
    </link>
    
    <joint
      name="L_middle_intermediate_joint"
      type="fixed">
      <origin
        xyz="-0.0024229 -0.032041 -0.001"
        rpy="0 0 0" />
      <parent
        link="L_middle_proximal" />
      <child
        link="L_middle_intermediate" />
      <axis
        xyz="0 0 -1" />
      <limit
        lower="0"
        upper="1.7"
        effort="10"
        velocity="5" />
      <mimic 
        joint="L_middle_proximal_joint"
        multiplier="1"
        offset="0" />
    </joint>

    <link name="L_middle_tip">
    <visual>
      <origin
        xyz="0 0 0"
        rpy="0 0 0" />
      <geometry>
        <sphere radius="0.005"/>
      </geometry>
      <material name="green">
        <color rgba="0 1 0 1" />
      </material>
    </visual>
  </link>
  <joint name="L_middle_tip_joint" type="fixed">
    <parent link="L_middle_intermediate"/>
    <child link="L_middle_tip"/>
    <origin rpy="0 0 0" xyz="-0.005 -0.045 -0.004"/>
  </joint>

    <link name="L_ring_proximal">
      <inertial>
        <origin
          xyz="0.0012971 -0.011934 -0.0059999"
          rpy="0 0 0" />
        <mass
          value="0.0042405" />
        <inertia
          ixx="6.6215E-07"
          ixy="1.8442E-08"
          ixz="9.6052E-13"
          iyy="2.1167E-07"
          iyz="-1.4124E-11"
          izz="6.9402E-07" />
      </inertial>
      <visual>
        <origin
          xyz="0 0 0"
          rpy="0 0 0" />
        <geometry>
          <mesh filename="Link19_L.STL" />
        </geometry>
        <material name="">
          <color rgba="0.1 0.1 0.1 1" />
        </material>
      </visual>
      <!-- <collision>
        <origin
          xyz="0 0 0"
          rpy="0 0 0" />
        <geometry>
          <mesh filename="Link19_L.STL" />
        </geometry>
      </collision> -->
    </link>

    <joint
      name="L_ring_proximal_joint"
      type="fixed">
      <origin
        xyz="0.00028533 -0.13691 -0.0062872"
        rpy="0.05236 0 0" />
      <parent
        link="L_hand_base_link" />
      <child
        link="L_ring_proximal" />
      <axis
        xyz="0 0 -1" />
      <limit
        lower="0"
        upper="1.7"
        effort="10"
        velocity="5" />
    </joint>

    <link name="L_ring_intermediate">
      <inertial>
        <origin
          xyz="0.0021753 -0.019567 -0.005"
          rpy="0 0 0" />
        <mass
          value="0.0045682" />
        <inertia
          ixx="7.6285E-07"
          ixy="-8.0631E-08"
          ixz="3.3472E-14"
          iyy="9.4308E-08"
          iyz="-4.4773E-13"
          izz="7.8176E-07" />
      </inertial>
      <visual>
        <origin
          xyz="0 0 0"
          rpy="0 0 0" />
        <geometry>
          <mesh filename="Link20_L.STL" />
        </geometry>
        <material name="">
          <color rgba="0.1 0.1 0.1 1" />
        </material>
      </visual>
      <!-- <collision>
        <origin
          xyz="0 0 0"
          rpy="0 0 0" />
        <geometry>
          <mesh filename="Link20_L.STL" />
        </geometry>
      </collision> -->
    </link>

    <joint
      name="L_ring_intermediate_joint"
      type="fixed">
      <origin
        xyz="-0.0024229 -0.032041 -0.001"
        rpy="0 0 0" />
      <parent
        link="L_ring_proximal" />
      <child
        link="L_ring_intermediate" />
      <axis
        xyz="0 0 -1" />
      <limit
        lower="0"
        upper="1.7"
        effort="10"
        velocity="5" />
      <mimic 
        joint="L_ring_proximal_joint"
        multiplier="1"
        offset="0" />
    </joint>

    <link name="L_ring_tip">
    <visual>
      <origin
        xyz="0 0 0"
        rpy="0 0 0" />
      <geometry>
        <sphere radius="0.005"/>
      </geometry>
      <material name="green">
        <color rgba="0 1 0 1" />
      </material>
    </visual>
  </link>
  <joint name="L_ring_tip_joint" type="fixed">
    <parent link="L_ring_intermediate"/>
    <child link="L_ring_tip"/>
    <origin rpy="0 0 0" xyz="-0.002 -0.04 -0.004"/>
  </joint>

    <link name="L_pinky_proximal">
      <inertial>
        <origin
          xyz="0.0012971 -0.011934 -0.0059999"
          rpy="0 0 0" />
        <mass
          value="0.0042405" />
        <inertia
          ixx="6.6215E-07"
          ixy="1.8442E-08"
          ixz="1.0279E-12"
          iyy="2.1167E-07"
          iyz="-1.4277E-11"
          izz="6.9402E-07" />
      </inertial>
      <visual>
        <origin
          xyz="0 0 0"
          rpy="0 0 0" />
        <geometry>
          <mesh filename="Link21_L.STL" />
        </geometry>
        <material name="">
          <color rgba="0.1 0.1 0.1 1" />
        </material>
      </visual>
      <!-- <collision>
        <origin
          xyz="0 0 0"
          rpy="0 0 0" />
        <geometry>
          <mesh filename="Link21_L.STL" />
        </geometry>
      </collision> -->
    </link>

    <joint
      name="L_pinky_proximal_joint"
      type="fixed">
      <origin
        xyz="0.00028533 -0.13571 -0.025488"
        rpy="0.10472 0 0" />
      <parent
        link="L_hand_base_link" />
      <child
        link="L_pinky_proximal" />
      <axis
        xyz="0 0 -1" />
      <limit
        lower="0"
        upper="1.7"
        effort="10"
        velocity="5" />
    </joint>

    <link name="L_pinky_intermediate">
      <inertial>
        <origin
          xyz="0.0024788 -0.016208 -0.0050001"
          rpy="0 0 0" />
        <mass
          value="0.0036036" />
        <inertia
          ixx="4.3923E-07"
          ixy="-4.1355E-08"
          ixz="1.2263E-12"
          iyy="7.0315E-08"
          iyz="3.1311E-12"
          izz="4.4881E-07" />
      </inertial>
      <visual>
        <origin
          xyz="0 0 0"
          rpy="0 0 0" />
        <geometry>
          <mesh filename="Link22_L.STL" />
        </geometry>
        <material name="">
          <color rgba="0.1 0.1 0.1 1" />
        </material>
      </visual>
      <!-- <collision>
        <origin
          xyz="0 0 0"
          rpy="0 0 0" />
        <geometry>
          <mesh filename="Link22_L.STL" />
        </geometry>
      </collision> -->
    </link>

    <joint
      name="L_pinky_intermediate_joint"
      type="fixed">
      <origin
        xyz="-0.0024229 -0.032041 -0.001"
        rpy="0 0 0" />
      <parent
        link="L_pinky_proximal" />
      <child
        link="L_pinky_intermediate" />
      <axis
        xyz="0 0 -1" />
      <limit
        lower="0"
        upper="1.7"
        effort="10"
        velocity="5" />
      <mimic 
        joint="L_pinky_proximal_joint"
        multiplier="1"
        offset="0" />
    </joint>

    <link name="L_pinky_tip">
    <visual>
      <origin
        xyz="0 0 0"
        rpy="0 0 0" />
      <geometry>
        <sphere radius="0.005"/>
      </geometry>
      <material name="green">
        <color rgba="0 1 0 1" />
      </material>
    </visual>
  </link>
  <joint name="L_pinky_tip_joint" type="fixed">
    <parent link="L_pinky_intermediate"/>
    <child link="L_pinky_tip"/>
    <origin rpy="0 0 0" xyz="-0.002 -0.032 -0.004"/>
  </joint>

  <joint name="right_flange" type="fixed">
    <origin rpy="0 -1.5707963267948966192313216916398 0" xyz="0 -0.084 0"/>
    <parent link="right_link7"/>
    <child link="R_hand_base_link"/>
  </joint>
      <link name="R_hand_base_link">
    <inertial>
      <origin
        xyz="-0.0025264 -0.066047 0.0019598"
        rpy="0 0 0" />
      <mass
        value="0.14143" />
      <inertia
        ixx="0.00012281"
        ixy="2.1711E-06"
        ixz="1.7709E-06"
        iyy="8.3832E-05"
        iyz="-1.6551E-06"
        izz="7.6663E-05" />
    </inertial>
    <visual>
      <origin
        xyz="0 0 0"
        rpy="0 0 0" />
      <geometry>
        <mesh filename="R_hand_base_link.STL" />
      </geometry>
      <material name="">
        <color rgba="0.1 0.1 0.1 1" />
      </material>
    </visual>
    <!-- <collision>
      <origin
        xyz="0 0 0"
        rpy="0 0 0" />
      <geometry>
        <mesh filename="R_hand_base_link.STL" />
      </geometry>
    </collision> -->
  </link>

  <link name="R_thumb_proximal_base">
    <inertial>
      <origin
        xyz="-0.0048064 0.0009382 -0.00757"
        rpy="0 0 0" />
      <mass
        value="0.0018869" />
      <inertia
        ixx="5.816E-08"
        ixy="1.4539E-08"
        ixz="4.491E-09"
        iyy="7.9161E-08"
        iyz="-1.8727E-09"
        izz="6.7433E-08" />
    </inertial>
    <visual>
      <origin
        xyz="0 0 0"
        rpy="0 0 0" />
      <geometry>
        <mesh filename="Link11_R.STL" />
      </geometry>
      <material name="">
        <color rgba="0.1 0.1 0.1 1" />
      </material>
    </visual>
    <!-- <collision>
      <origin
        xyz="0 0 0"
        rpy="0 0 0" />
      <geometry>
        <mesh filename="Link11_R.STL" />
      </geometry>
    </collision> -->
  </link>

  <joint
    name="R_thumb_proximal_yaw_joint"
    type="fixed">
    <origin
      xyz="-0.01696 -0.0691 -0.02045"
      rpy="1.5708 -1.5708 0" />
    <parent
      link="R_hand_base_link" />
    <child
      link="R_thumb_proximal_base" />
    <axis
      xyz="0 0 -1" />
    <limit
      lower="-0.1"
      upper="1.3"
      effort="10"
      velocity="5" />
  </joint>

  <link name="R_thumb_proximal">
    <inertial>
      <origin
        xyz="0.021932 0.012785 -0.0080386"
        rpy="0 0 0" />
      <mass
        value="0.0066075" />
      <inertia
        ixx="1.5686E-06"
        ixy="-7.8296E-07"
        ixz="8.9143E-10"
        iyy="1.7353E-06"
        iyz="-1.0191E-09"
        izz="2.786E-06" />
    </inertial>
    <visual>
      <origin
        xyz="0 0 0"
        rpy="0 0 0" />
      <geometry>
        <mesh filename="Link12_R.STL" />
      </geometry>
      <material name="">
        <color rgba="0.1 0.1 0.1 1" />
      </material>
    </visual>
    <!-- <collision>
      <origin
        xyz="0 0 0"
        rpy="0 0 0" />
      <geometry>
        <mesh filename="Link12_R.STL" />
      </geometry>
    </collision> -->
  </link>

  <joint
    name="R_thumb_proximal_pitch_joint"
    type="fixed">
    <origin
      xyz="-0.0088099 0.010892 -0.00925"
      rpy="1.5708 0 2.8587" />
    <parent
      link="R_thumb_proximal_base" />
    <child
      link="R_thumb_proximal" />
    <axis
      xyz="0 0 1" />
    <limit
      lower="0.0"
      upper="0.5"
      effort="10"
      velocity="5" />
  </joint>

  <link name="R_thumb_intermediate">
    <inertial>
      <origin
        xyz="0.0095544 -0.0016282 -0.0071997"
        rpy="0 0 0" />
      <mass
        value="0.0037847" />
      <inertia
        ixx="3.6981E-07"
        ixy="-9.8581E-08"
        ixz="-4.7469E-12"
        iyy="3.2394E-07"
        iyz="1.0939E-12"
        izz="4.6531E-07" />
    </inertial>
    <visual>
      <origin
        xyz="0 0 0"
        rpy="0 0 0" />
      <geometry>
        <mesh filename="Link13_R.STL" />
      </geometry>
      <material name="">
        <color rgba="0.1 0.1 0.1 1" />
      </material>
    </visual>
    <!-- <collision>
      <origin
        xyz="0 0 0"
        rpy="0 0 0" />
      <geometry>
        <mesh filename="Link13_R.STL" />
      </geometry>
    </collision> -->
  </link>

  <joint
    name="R_thumb_intermediate_joint"
    type="fixed">
    <origin
      xyz="0.04407 0.034553 -0.0008"
      rpy="0 0 0" />
    <parent
      link="R_thumb_proximal" />
    <child
      link="R_thumb_intermediate" />
    <axis
      xyz="0 0 1" />
    <limit
      lower="0"
      upper="0.8"
      effort="10"
      velocity="5" />
    <mimic 
      joint="R_thumb_proximal_pitch_joint"
      multiplier="1.6"
      offset="0" />
  </joint>

  <link name="R_thumb_distal">
    <inertial>
      <origin
        xyz="0.0092888 0.0049529 -0.0060033"
        rpy="0 0 0" />
      <mass
        value="0.0033441" />
      <inertia
        ixx="1.3632E-07"
        ixy="-5.6788E-08"
        ixz="-9.2764E-11"
        iyy="1.4052E-07"
        iyz="-1.2283E-10"
        izz="2.0026E-07" />
    </inertial>
    <visual>
      <origin
        xyz="0 0 0"
        rpy="0 0 0" />
      <geometry>
        <mesh filename="Link14_R.STL" />
      </geometry>
      <material name="">
        <color rgba="0.1 0.1 0.1 1" />
      </material>
    </visual>
    <!-- <collision>
      <origin
        xyz="0 0 0"
        rpy="0 0 0" />
      <geometry>
        <mesh filename="Link14_R.STL" />
      </geometry>
    </collision> -->
  </link>

  <joint
    name="R_thumb_distal_joint"
    type="fixed">
    <origin
      xyz="0.020248 0.010156 -0.0012"
      rpy="0 0 0" />
    <parent
      link="R_thumb_intermediate" />
    <child
      link="R_thumb_distal" />
    <axis
      xyz="0 0 1" />
    <limit
      lower="0"
      upper="1.2"
      effort="10"
      velocity="5" />
    <mimic 
      joint="R_thumb_proximal_pitch_joint"
      multiplier="2.4"
      offset="0" />
  </joint>

  <link name="R_thumb_tip">
    <visual>
      <origin
        xyz="0 0 0"
        rpy="0 0 0" />
      <geometry>
        <sphere radius="0.005"/>
      </geometry>
      <material name="green">
        <color rgba="0 1 0 1" />
      </material>
    </visual>
  </link>
  <joint name="R_thumb_tip_joint" type="fixed">
    <parent link="R_thumb_distal"/>
    <child link="R_thumb_tip"/>
    <origin rpy="0 0 0" xyz="0.015 0.013 -0.004"/>
  </joint>

  <link name="R_index_proximal">
    <inertial>
      <origin
        xyz="0.0012259 0.011942 -0.0060001"
        rpy="0 0 0" />
      <mass
        value="0.0042403" />
      <inertia
        ixx="6.6232E-07"
        ixy="-1.5775E-08"
        ixz="1.8515E-12"
        iyy="2.1146E-07"
        iyz="-5.0828E-12"
        izz="6.9398E-07" />
    </inertial>
    <visual>
      <origin
        xyz="0 0 0"
        rpy="0 0 0" />
      <geometry>
        <mesh filename="Link15_R.STL" />
      </geometry>
      <material name="">
        <color rgba="0.1 0.1 0.1 1" />
      </material>
    </visual>
    <!-- <collision>
      <origin
        xyz="0 0 0"
        rpy="0 0 0" />
      <geometry>
        <mesh filename="Link15_R.STL" />
      </geometry>
    </collision> -->
  </link>

  <joint
    name="R_index_proximal_joint"
    type="fixed">
    <origin
      xyz="0.00028533 -0.13653 -0.032268"
      rpy="-3.1067 0 0" />
    <parent
      link="R_hand_base_link" />
    <child
      link="R_index_proximal" />
    <axis
      xyz="0 0 1" />
    <limit
      lower="0"
      upper="1.7"
      effort="10"
      velocity="5" />
  </joint>

  <link name="R_index_intermediate">
    <inertial>
      <origin
        xyz="0.0019697 0.019589 -0.005"
        rpy="0 0 0" />
      <mass
        value="0.0045683" />
      <inertia
        ixx="7.6111E-07"
        ixy="8.7637E-08"
        ixz="-3.7751E-13"
        iyy="9.6076E-08"
        iyz="9.9444E-13"
        izz="7.8179E-07" />
    </inertial>
    <visual>
      <origin
        xyz="0 0 0"
        rpy="0 0 0" />
      <geometry>
        <mesh filename="Link16_R.STL" />
      </geometry>
      <material name="">
        <color rgba="0.1 0.1 0.1 1" />
      </material>
    </visual>
    <!-- <collision>
      <origin
        xyz="0 0 0"
        rpy="0 0 0" />
      <geometry>
        <mesh filename="Link16_R.STL" />
      </geometry>
    </collision> -->
  </link>

  <joint
    name="R_index_intermediate_joint"
    type="fixed">
    <origin
      xyz="-0.0026138 0.032026 -0.001"
      rpy="0 0 0" />
    <parent
      link="R_index_proximal" />
    <child
      link="R_index_intermediate" />
    <axis
      xyz="0 0 1" />
    <limit
      lower="0"
      upper="1.7"
      effort="10"
      velocity="5" />
    <mimic 
      joint="R_index_proximal_joint"
      multiplier="1"
      offset="0" />
  </joint>

  <link name="R_index_tip">
    <visual>
      <origin
        xyz="0 0 0"
        rpy="0 0 0" />
      <geometry>
        <sphere radius="0.005"/>
      </geometry>
      <material name="green">
        <color rgba="0 1 0 1" />
      </material>
    </visual>
  </link>
  <joint name="R_index_tip_joint" type="fixed">
    <parent link="R_index_intermediate"/>
    <child link="R_index_tip"/>
    <origin rpy="0 0 0" xyz="-0.005 0.04 -0.004"/>
  </joint>

  <link name="R_middle_proximal">
    <inertial>
      <origin
        xyz="0.001297 0.011934 -0.0060001"
        rpy="0 0 0" />
      <mass
        value="0.0042403" />
      <inertia
        ixx="6.6211E-07"
        ixy="-1.8461E-08"
        ixz="1.8002E-12"
        iyy="2.1167E-07"
        iyz="-6.6808E-12"
        izz="6.9397E-07" />
    </inertial>
    <visual>
      <origin
        xyz="0 0 0"
        rpy="0 0 0" />
      <geometry>
        <mesh filename="Link17_R.STL" />
      </geometry>
      <material name="">
        <color rgba="0.1 0.1 0.1 1" />
      </material>
    </visual>
    <!-- <collision>
      <origin
        xyz="0 0 0"
        rpy="0 0 0" />
      <geometry>
        <mesh filename="Link17_R.STL" />
      </geometry>
    </collision> -->
  </link>

  <joint
    name="R_middle_proximal_joint"
    type="fixed">
    <origin
      xyz="0.00028533 -0.1371 -0.01295"
      rpy="-3.1416 0 0" />
    <parent
      link="R_hand_base_link" />
    <child
      link="R_middle_proximal" />
    <axis
      xyz="0 0 1" />
    <limit
      lower="0"
      upper="1.7"
      effort="10"
      velocity="5" />
  </joint>

  <link name="R_middle_intermediate">
    <inertial>
      <origin
        xyz="0.001921 0.020796 -0.005"
        rpy="0 0 0" />
      <mass
        value="0.0050396" />
      <inertia
        ixx="9.5822E-07"
        ixy="1.1425E-07"
        ixz="-2.4791E-12"
        iyy="1.0646E-07"
        iyz="5.9173E-12"
        izz="9.8384E-07" />
    </inertial>
    <visual>
      <origin
        xyz="0 0 0"
        rpy="0 0 0" />
      <geometry>
        <mesh filename="Link18_R.STL" />
      </geometry>
      <material name="">
        <color rgba="0.1 0.1 0.1 1" />
      </material>
    </visual>
    <!-- <collision>
      <origin
        xyz="0 0 0"
        rpy="0 0 0" />
      <geometry>
        <mesh filename="Link18_R.STL" />
      </geometry>
    </collision> -->
  </link>

  <joint
    name="R_middle_intermediate_joint"
    type="fixed">
    <origin
      xyz="-0.0024229 0.032041 -0.001"
      rpy="0 0 0" />
    <parent
      link="R_middle_proximal" />
    <child
      link="R_middle_intermediate" />
    <axis
      xyz="0 0 1" />
    <limit
      lower="0"
      upper="1.7"
      effort="10"
      velocity="5" />
    <mimic 
      joint="R_middle_proximal_joint"
      multiplier="1"
      offset="0" />
  </joint>

  <link name="R_middle_tip">
    <visual>
      <origin
        xyz="0 0 0"
        rpy="0 0 0" />
      <geometry>
        <sphere radius="0.005"/>
      </geometry>
      <material name="green">
        <color rgba="0 1 0 1" />
      </material>
    </visual>
  </link>
  <joint name="R_middle_tip_joint" type="fixed">
    <parent link="R_middle_intermediate"/>
    <child link="R_middle_tip"/>
    <origin rpy="0 0 0" xyz="-0.005 0.045 -0.004"/>
  </joint>

  <link name="R_ring_proximal">
    <inertial>
      <origin
        xyz="0.001297 0.011934 -0.0060002"
        rpy="0 0 0" />
      <mass
        value="0.0042403" />
      <inertia
        ixx="6.6211E-07"
        ixy="-1.8461E-08"
        ixz="1.5793E-12"
        iyy="2.1167E-07"
        iyz="-6.6868E-12"
        izz="6.9397E-07" />
    </inertial>
    <visual>
      <origin
        xyz="0 0 0"
        rpy="0 0 0" />
      <geometry>
        <mesh filename="Link19_R.STL" />
      </geometry>
      <material name="">
        <color rgba="0.1 0.1 0.1 1" />
      </material>
    </visual>
    <!-- <collision>
      <origin
        xyz="0 0 0"
        rpy="0 0 0" />
      <geometry>
        <mesh filename="Link19_R.STL" />
      </geometry>
    </collision> -->
  </link>

  <joint
    name="R_ring_proximal_joint"
    type="fixed">
    <origin
      xyz="0.00028533 -0.13691 0.0062872"
      rpy="3.0892 0 0" />
    <parent
      link="R_hand_base_link" />
    <child
      link="R_ring_proximal" />
    <axis
      xyz="0 0 1" />
    <limit
      lower="0"
      upper="1.7"
      effort="10"
      velocity="5" />
  </joint>

  <link name="R_ring_intermediate">
    <inertial>
      <origin
        xyz="0.0021753 0.019567 -0.005"
        rpy="0 0 0" />
      <mass
        value="0.0045683" />
      <inertia
        ixx="7.6286E-07"
        ixy="8.0635E-08"
        ixz="-6.1562E-13"
        iyy="9.431E-08"
        iyz="5.8619E-13"
        izz="7.8177E-07" />
    </inertial>
    <visual>
      <origin
        xyz="0 0 0"
        rpy="0 0 0" />
      <geometry>
        <mesh filename="Link20_R.STL" />
      </geometry>
      <material name="">
        <color rgba="0.1 0.1 0.1 1" />
      </material>
    </visual>
    <!-- <collision>
      <origin
        xyz="0 0 0"
        rpy="0 0 0" />
      <geometry>
        <mesh filename="Link20_R.STL" />
      </geometry>
    </collision> -->
  </link>

  <joint
    name="R_ring_intermediate_joint"
    type="fixed">
    <origin
      xyz="-0.0024229 0.032041 -0.001"
      rpy="0 0 0" />
    <parent
      link="R_ring_proximal" />
    <child
      link="R_ring_intermediate" />
    <axis
      xyz="0 0 1" />
    <limit
      lower="0"
      upper="1.7"
      effort="10"
      velocity="5" />
    <mimic 
      joint="R_ring_proximal_joint"
      multiplier="1"
      offset="0" />
  </joint>

  <link name="R_ring_tip">
    <visual>
      <origin
        xyz="0 0 0"
        rpy="0 0 0" />
      <geometry>
        <sphere radius="0.005"/>
      </geometry>
      <material name="green">
        <color rgba="0 1 0 1" />
      </material>
    </visual>
  </link>
  <joint name="R_ring_tip_joint" type="fixed">
    <parent link="R_ring_intermediate"/>
    <child link="R_ring_tip"/>
    <origin rpy="0 0 0" xyz="-0.002 0.04 -0.004"/>
  </joint>

  <link name="R_pinky_proximal">
    <inertial>
      <origin
        xyz="0.001297 0.011934 -0.0060001"
        rpy="0 0 0" />
      <mass
        value="0.0042403" />
      <inertia
        ixx="6.6211E-07"
        ixy="-1.8461E-08"
        ixz="1.6907E-12"
        iyy="2.1167E-07"
        iyz="-6.9334E-12"
        izz="6.9397E-07" />
    </inertial>
    <visual>
      <origin
        xyz="0 0 0"
        rpy="0 0 0" />
      <geometry>
        <mesh filename="Link21_R.STL" />
      </geometry>
      <material name="">
        <color rgba="0.1 0.1 0.1 1" />
      </material>
    </visual>
    <!-- <collision>
      <origin
        xyz="0 0 0"
        rpy="0 0 0" />
      <geometry>
        <mesh filename="Link21_R.STL" />
      </geometry>
    </collision> -->
  </link>

  <joint
    name="R_pinky_proximal_joint"
    type="fixed">
    <origin
      xyz="0.00028533 -0.13571 0.025488"
      rpy="3.0369 0 0" />
    <parent
      link="R_hand_base_link" />
    <child
      link="R_pinky_proximal" />
    <axis
      xyz="0 0 1" />
    <limit
      lower="0"
      upper="1.7"
      effort="10"
      velocity="5" />
  </joint>

  <link name="R_pinky_intermediate">
    <inertial>
      <origin
        xyz="0.0024748 0.016203 -0.0050031"
        rpy="0 0 0" />
      <mass
        value="0.0035996" />
      <inertia
        ixx="4.3913E-07"
        ixy="4.1418E-08"
        ixz="3.7168E-11"
        iyy="7.0247E-08"
        iyz="5.8613E-11"
        izz="4.4867E-07" />
    </inertial>
    <visual>
      <origin
        xyz="0 0 0"
        rpy="0 0 0" />
      <geometry>
        <mesh filename="Link22_R.STL" />
      </geometry>
      <material name="">
        <color rgba="0.1 0.1 0.1 1" />
      </material>
    </visual>
    <!-- <collision>
      <origin
        xyz="0 0 0"
        rpy="0 0 0" />
      <geometry>
        <mesh filename="Link22_R.STL" />
      </geometry>
    </collision> -->
  </link>

  <joint
    name="R_pinky_intermediate_joint"
    type="fixed">
    <origin
      xyz="-0.0024229 0.032041 -0.001"
      rpy="0 0 0" />
    <parent
      link="R_pinky_proximal" />
    <child
      link="R_pinky_intermediate" />
    <axis
      xyz="0 0 1" />
    <limit
      lower="0"
      upper="1.7"
      effort="10"
      velocity="5" />
    <mimic 
      joint="R_pinky_proximal_joint"
      multiplier="1"
      offset="0" />
  </joint>

  <link name="R_pinky_tip">
    <visual>
      <origin
        xyz="0 0 0"
        rpy="0 0 0" />
      <geometry>
        <sphere radius="0.005"/>
      </geometry>
      <material name="green">
        <color rgba="0 1 0 1" />
      </material>
    </visual>
  </link>
  <joint name="R_pinky_tip_joint" type="fixed">
    <parent link="R_pinky_intermediate"/>
    <child link="R_pinky_tip"/>
    <origin rpy="0 0 0" xyz="-0.002 0.032 -0.004"/>
  </joint>






    <!--base-->
  <link name="base_collision_1">
    <visual>
      <origin xyz="0 0 0" rpy="0 0 0"/>
      <geometry>
        <sphere radius="0.35"/>
      </geometry>
      <material name="red">
        <color rgba="1 0 0 0.2"/>
      </material>
    </visual>
    <inertial>
      <origin xyz="0 0 0" rpy="0 0 0"/>
      <mass value="0.001"/>
      <inertia ixx="0.0001" iyy="0.0001" izz="0.0001" ixy="0" ixz="0" iyz="0"/>
    </inertial>
  </link>
  <link name="base_collision_2">
    <visual>
      <origin xyz="0 0 0" rpy="0 0 0"/>
      <geometry>
        <sphere radius="0.15"/>
      </geometry>
      <material name="green">
        <color rgba="0 1 0 0.2"/>
      </material>
    </visual>
    <inertial>
      <origin xyz="0 0 0" rpy="0 0 0"/>
      <mass value="0.001"/>
      <inertia ixx="0.0001" iyy="0.0001" izz="0.0001" ixy="0" ixz="0" iyz="0"/>
    </inertial>
  </link>
  <link name="base_collision_3">
    <visual>
      <origin xyz="0 0 0" rpy="0 0 0"/>
      <geometry>
        <sphere radius="0.15"/>
      </geometry>
      <material name="green">
        <color rgba="0 1 0 0.2"/>
      </material>
    </visual>
    <inertial>
      <origin xyz="0 0 0" rpy="0 0 0"/>
      <mass value="0.001"/>
      <inertia ixx="0.0001" iyy="0.0001" izz="0.0001" ixy="0" ixz="0" iyz="0"/>
    </inertial>
  </link>
  <link name="base_collision_4">
    <visual>
      <origin xyz="0 0 0" rpy="0 0 0"/>
      <geometry>
        <sphere radius="0.15"/>
      </geometry>
      <material name="green">
        <color rgba="0 1 0 0.2"/>
      </material>
    </visual>
    <inertial>
      <origin xyz="0 0 0" rpy="0 0 0"/>
      <mass value="0.001"/>
      <inertia ixx="0.0001" iyy="0.0001" izz="0.0001" ixy="0" ixz="0" iyz="0"/>
    </inertial>
  </link>
  <joint name="base_collision_joint_1" type="fixed">
    <parent link="waist_Z_link"/>
    <child link="base_collision_1"/>
    <origin xyz="0.27 0.40 -0.15" rpy="0 0 0"/>
  </joint>
  <joint name="base_collision_joint_2" type="fixed">
    <parent link="waist_Z_link"/>
    <child link="base_collision_2"/>
    <origin xyz="0 0 0.075" rpy="0 0 0"/>
  </joint>
  <joint name="base_collision_joint_3" type="fixed">
    <parent link="waist_Z_link"/>
    <child link="base_collision_3"/>
    <origin xyz="0 0 0.25" rpy="0 0 0"/>
  </joint>
  <joint name="base_collision_joint_4" type="fixed">
    <parent link="waist_Z_link"/>
    <child link="base_collision_4"/>
    <origin xyz="0 0 0.4" rpy="0 0 0"/>
  </joint>
  <!--left-->

  <link name="left_collision_11">
    <visual>
      <origin xyz="0 0 0" rpy="0 0 0"/>
      <geometry>
        <sphere radius="0.03"/>
      </geometry>
      <material name="green">
        <color rgba="1 0 0 0.2"/>
      </material>
    </visual>
    <inertial>
      <origin xyz="0 0 0" rpy="0 0 0"/>
      <mass value="0.001"/>
      <inertia ixx="0.0001" iyy="0.0001" izz="0.0001" ixy="0" ixz="0" iyz="0"/>
    </inertial>
  </link>

  <link name="left_collision_21">
    <visual>
      <origin xyz="0 0 0" rpy="0 0 0"/>
      <geometry>
        <sphere radius="0.045"/>
      </geometry>
      <material name="green">
        <color rgba="0 1 0 0.2"/>
      </material>
    </visual>
    <inertial>
      <origin xyz="0 0 0" rpy="0 0 0"/>
      <mass value="0.001"/>
      <inertia ixx="0.0001" iyy="0.0001" izz="0.0001" ixy="0" ixz="0" iyz="0"/>
    </inertial>
  </link>
  <link name="left_collision_22">
    <visual>
      <origin xyz="0 0 0" rpy="0 0 0"/>
      <geometry>
        <sphere radius="0.045"/>
      </geometry>
      <material name="green">
        <color rgba="0 1 0 0.2"/>
      </material>
    </visual>
    <inertial>
      <origin xyz="0 0 0" rpy="0 0 0"/>
      <mass value="0.001"/>
      <inertia ixx="0.0001" iyy="0.0001" izz="0.0001" ixy="0" ixz="0" iyz="0"/>
    </inertial>
  </link>

  <link name="left_collision_31">
    <visual>
      <origin xyz="0 0 0" rpy="0 0 0"/>
      <geometry>
        <sphere radius="0.045"/>
      </geometry>
      <material name="green">
        <color rgba="0 1 0 0.2"/>
      </material>
    </visual>
    <inertial>
      <origin xyz="0 0 0" rpy="0 0 0"/>
      <mass value="0.001"/>
      <inertia ixx="0.0001" iyy="0.0001" izz="0.0001" ixy="0" ixz="0" iyz="0"/>
    </inertial>
  </link>

  <link name="left_collision_41">
    <visual>
      <origin xyz="0 0 0" rpy="0 0 0"/>
      <geometry>
        <sphere radius="0.045"/>
      </geometry>
      <material name="green">
        <color rgba="0 1 0 0.2"/>
      </material>
    </visual>
    <inertial>
      <origin xyz="0 0 0" rpy="0 0 0"/>
      <mass value="0.001"/>
      <inertia ixx="0.0001" iyy="0.0001" izz="0.0001" ixy="0" ixz="0" iyz="0"/>
    </inertial>
  </link>
  <link name="left_collision_51">
    <visual>
      <origin xyz="0 0 0" rpy="0 0 0"/>
      <geometry>
        <sphere radius="0.045"/>
      </geometry>
      <material name="green">
        <color rgba="0 1 0 0.2"/>
      </material>
    </visual>
    <inertial>
      <origin xyz="0 0 0" rpy="0 0 0"/>
      <mass value="0.001"/>
      <inertia ixx="0.0001" iyy="0.0001" izz="0.0001" ixy="0" ixz="0" iyz="0"/>
    </inertial>
  </link>
  <link name="left_collision_61">
    <visual>
      <origin xyz="0 0 0" rpy="0 0 0"/>
      <geometry>
        <sphere radius="0.099"/>
      </geometry>
      <material name="green">
        <color rgba="0 1 0 0.2"/>
      </material>
    </visual>
    <inertial>
      <origin xyz="0 0 0" rpy="0 0 0"/>
      <mass value="0.001"/>
      <inertia ixx="0.0001" iyy="0.0001" izz="0.0001" ixy="0" ixz="0" iyz="0"/>
    </inertial>
  </link>
  <joint name="left_collision_joint_11" type="fixed">
    <parent link="left_link1"/>
    <child link="left_collision_11"/>
    <origin xyz="0 0 0.0" rpy="0 0 0"/>
  </joint>

  <joint name="left_collision_joint_21" type="fixed">
    <parent link="left_link2"/>
    <child link="left_collision_21"/>
    <origin xyz="0 -0.1 0.0" rpy="0 0 0"/>
  </joint>

  <joint name="left_collision_joint_22" type="fixed">
    <parent link="left_link2"/>
    <child link="left_collision_22"/>
    <origin xyz="0 -0.19 0.0" rpy="0 0 0"/>
  </joint>
  <joint name="left_collision_joint_31" type="fixed">
    <parent link="left_link3"/>
    <child link="left_collision_31"/>
    <origin xyz="0 0 0.0" rpy="0 0 0"/>
  </joint>

  <joint name="left_collision_joint_41" type="fixed">
    <parent link="left_link4"/>
    <child link="left_collision_41"/>
    <origin xyz="0 -0.12 0.0" rpy="0 0 0"/>
  </joint>

  <joint name="left_collision_joint_51" type="fixed">
    <parent link="left_link5"/>
    <child link="left_collision_51"/>
    <origin xyz="0 0 0.0" rpy="0 0 0"/>
  </joint>
  <joint name="left_collision_joint_61" type="fixed">
    <parent link="left_flange"/>
    <child link="left_collision_61"/>
    <origin xyz="0 0 0.205" rpy="0 0 0"/>
  </joint>
  <!--right-->

  
  <link name="right_collision_11">
    <visual>
      <origin xyz="0 0 0" rpy="0 0 0"/>
      <geometry>
        <sphere radius="0.06"/>
      </geometry>
      <material name="green">
        <color rgba="0 1 0 0.2"/>
      </material>
    </visual>
    <inertial>
      <origin xyz="0 0 0" rpy="0 0 0"/>
      <mass value="0.001"/>
      <inertia ixx="0.0001" iyy="0.0001" izz="0.0001" ixy="0" ixz="0" iyz="0"/>
    </inertial>
  </link>

  <link name="right_collision_21">
    <visual>
      <origin xyz="0 0 0" rpy="0 0 0"/>
      <geometry>
        <sphere radius="0.045"/>
      </geometry>
      <material name="green">
        <color rgba="0 1 0 0.2"/>
      </material>
    </visual>
    <inertial>
      <origin xyz="0 0 0" rpy="0 0 0"/>
      <mass value="0.001"/>
      <inertia ixx="0.0001" iyy="0.0001" izz="0.0001" ixy="0" ixz="0" iyz="0"/>
    </inertial>
  </link>
  <link name="right_collision_22">
    <visual>
      <origin xyz="0 0 0" rpy="0 0 0"/>
      <geometry>
        <sphere radius="0.045"/>
      </geometry>
      <material name="green">
        <color rgba="0 1 0 0.2"/>
      </material>
    </visual>
    <inertial>
      <origin xyz="0 0 0" rpy="0 0 0"/>
      <mass value="0.001"/>
      <inertia ixx="0.0001" iyy="0.0001" izz="0.0001" ixy="0" ixz="0" iyz="0"/>
    </inertial>
  </link>

  <link name="right_collision_31">
    <visual>
      <origin xyz="0 0 0" rpy="0 0 0"/>
      <geometry>
        <sphere radius="0.045"/>
      </geometry>
      <material name="green">
        <color rgba="0 1 0 0.2"/>
      </material>
    </visual>
    <inertial>
      <origin xyz="0 0 0" rpy="0 0 0"/>
      <mass value="0.001"/>
      <inertia ixx="0.0001" iyy="0.0001" izz="0.0001" ixy="0" ixz="0" iyz="0"/>
    </inertial>
  </link>

  <link name="right_collision_41">
    <visual>
      <origin xyz="0 0 0" rpy="0 0 0"/>
      <geometry>
        <sphere radius="0.045"/>
      </geometry>
      <material name="green">
        <color rgba="0 1 0 0.2"/>
      </material>left
    </visual>
    <inertial>
      <origin xyz="0 0 0" rpy="0 0 0"/>
      <mass value="0.001"/>
      <inertia ixx="0.0001" iyy="0.0001" izz="0.0001" ixy="0" ixz="0" iyz="0"/>
    </inertial>
  </link>
  <link name="right_collision_51">
    <visual>
      <origin xyz="0 0 0" rpy="0 0 0"/>
      <geometry>
        <sphere radius="0.045"/>
      </geometry>
      <material name="green">
        <color rgba="0 1 0 0.2"/>
      </material>
    </visual>
    <inertial>
      <origin xyz="0 0 0" rpy="0 0 0"/>
      <mass value="0.001"/>
      <inertia ixx="0.0001" iyy="0.0001" izz="0.0001" ixy="0" ixz="0" iyz="0"/>
    </inertial>
  </link>
  <link name="right_collision_61">
    <visual>
      <origin xyz="0 0 0" rpy="0 0 0"/>
      <geometry>
        <sphere radius="0.065"/>
      </geometry>
      <material name="green">
        <color rgba="0 1 0 0.2"/>
      </material>
    </visual>
    <inertial>
      <origin xyz="0 0 0" rpy="0 0 0"/>
      <mass value="0.001"/>
      <inertia ixx="0.0001" iyy="0.0001" izz="0.0001" ixy="0" ixz="0" iyz="0"/>
    </inertial>
  </link>
  <joint name="right_collision_joint_11" type="fixed">
    <parent link="right_link1"/>
    <child link="right_collision_11"/>
    <origin xyz="0 0 0.0" rpy="0 0 0"/>
  </joint>

  <joint name="right_collision_joint_21" type="fixed">
    <parent link="right_link2"/>
    <child link="right_collision_21"/>
    <origin xyz="0 0.1 0.0" rpy="0 0 0"/>
  </joint>

  <joint name="right_collision_joint_22" type="fixed">
    <parent link="right_link2"/>
    <child link="right_collision_22"/>
    <origin xyz="0 0.19 0.0" rpy="0 0 0"/>
  </joint>
  <joint name="right_collision_joint_31" type="fixed">
    <parent link="right_link3"/>
    <child link="right_collision_31"/>
    <origin xyz="0 0 0.0" rpy="0 0 0"/>
  </joint>

  <joint name="right_collision_joint_41" type="fixed">
    <parent link="right_link4"/>
    <child link="right_collision_41"/>
    <origin xyz="0 0.12 0.0" rpy="0 0 0"/>
  </joint>

  <joint name="right_collision_joint_51" type="fixed">
    <parent link="right_link5"/>
    <child link="right_collision_51"/>
    <origin xyz="0 0 0.0" rpy="0 0 0"/>
  </joint>
  <joint name="right_collision_joint_61" type="fixed">
    <parent link="right_flange"/>
    <child link="right_collision_61"/>
    <origin xyz="0 0 0.075" rpy="0 0 0"/>
  </joint>
</robot>
